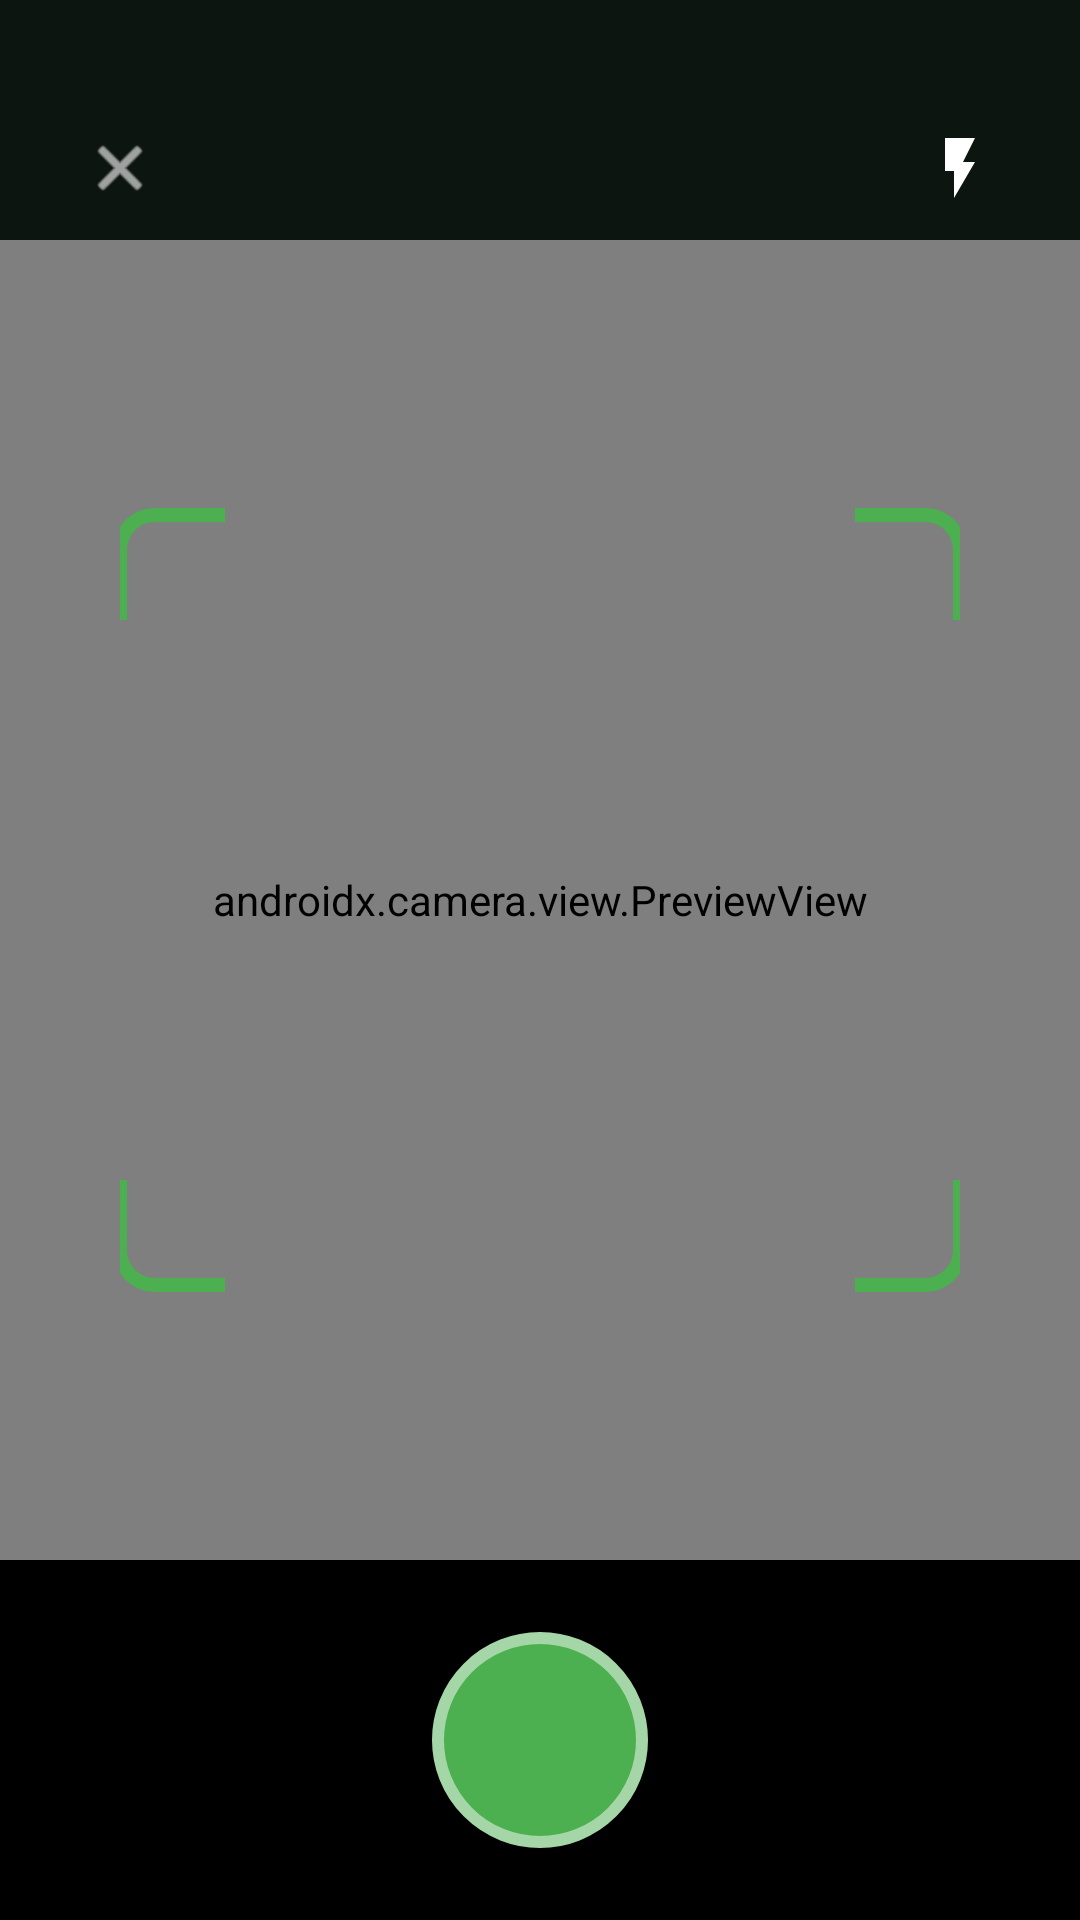

Screen size 1080 x 1920. Icon name, then its box in pixels as [x1=x1, y1=y1, x2=x2, y2=y2]:
close clear cancel: [x1=97, y1=145, x2=143, y2=191]
flash: [x1=945, y1=138, x2=975, y2=198]
